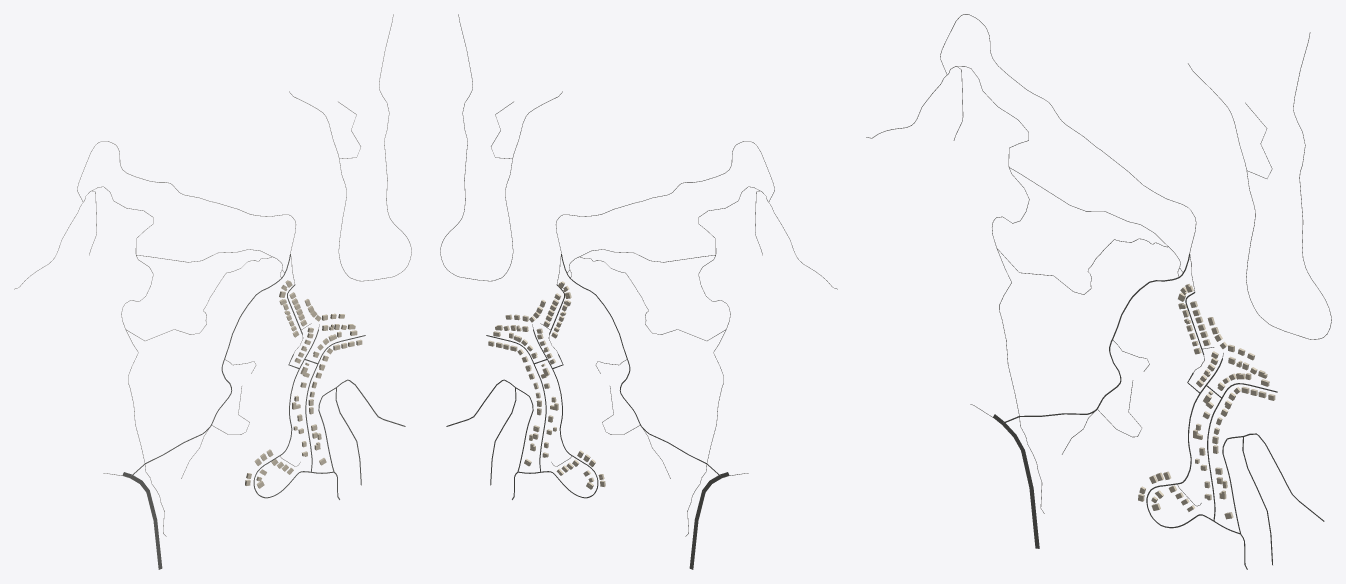
The model's file is historic-palestine-08_23_3500_3178.glb.
3 views of the same model, side by side, from view 1: azimuth 30°, elevation 25°; view 2: azimuth 150°, elevation 25°; view 3: azimuth 330°, elevation 25° (orthographic). The views are drawn at different scales.
Parts seen in each view (by area): view 1: Road .002; view 2: Road .002; view 3: Road .002, Road 44.001.
Boxes of the visible parts, left/top/right/bottom form: Road .002: left=289, top=14, right=411, bottom=281; Road .002: left=440, top=14, right=562, bottom=281; Road .002: left=1188, top=32, right=1331, bottom=339; Road 44.001: left=1002, top=423, right=1039, bottom=548.
Bounding box in the file's own units: 1283 × 1537 × 8.7.
